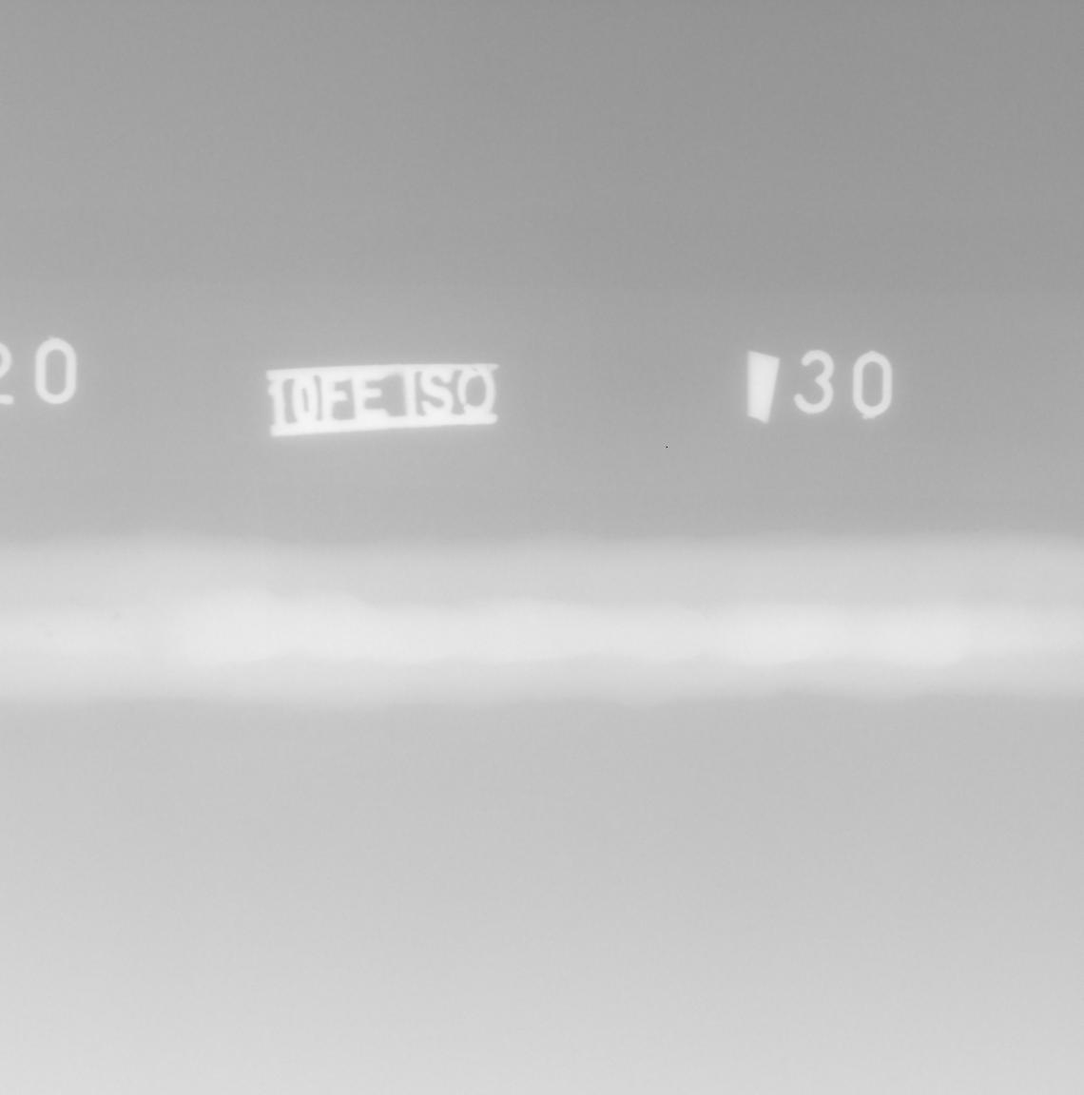Inclusion: (68, 596, 80, 602), (44, 632, 54, 639)
Pore/Porosity: (113, 612, 122, 619)
